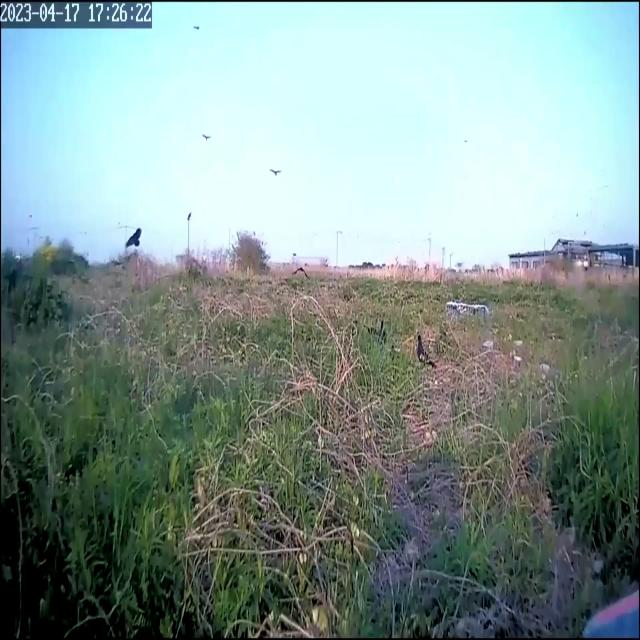bird: (125, 216, 143, 260), (268, 159, 282, 186), (202, 125, 212, 149)
